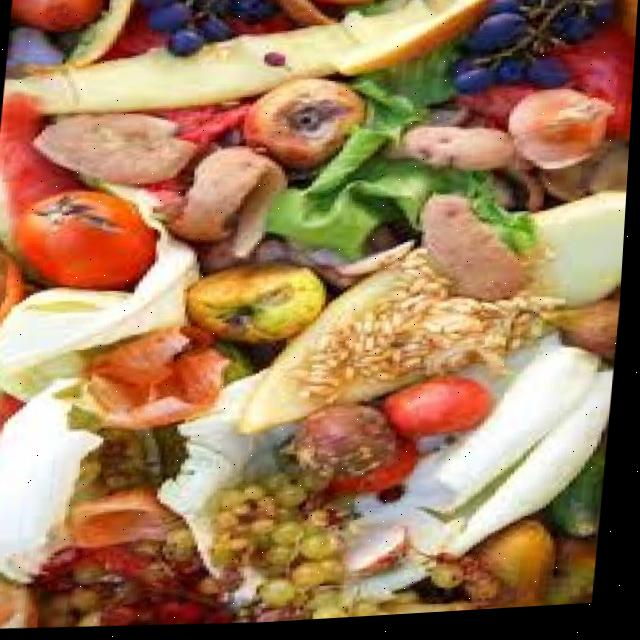Wet: (0, 0, 640, 640), (0, 0, 640, 484), (176, 203, 629, 630)
